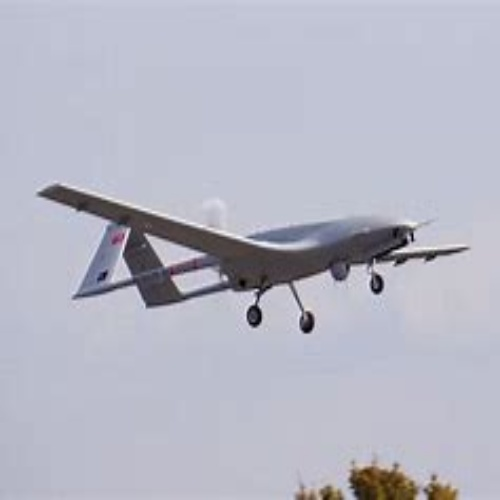uav: (36, 176, 473, 337)
